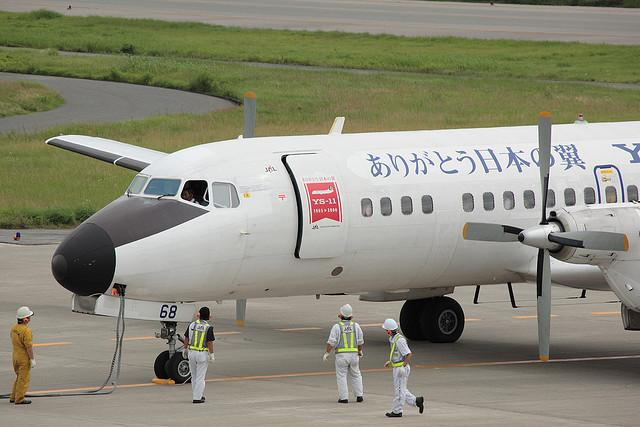airplane: (43, 90, 640, 385)
